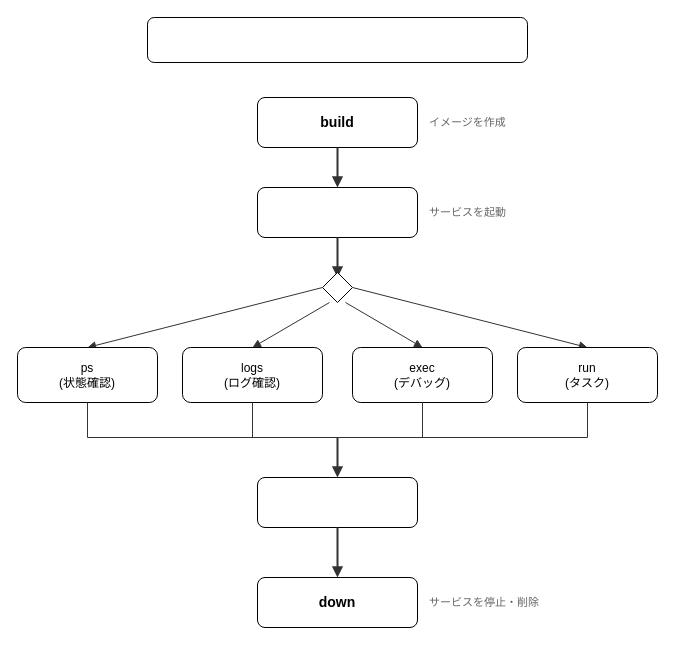
Some shapes in this 675 by 645 pixel diagram are drawn without their labels. The centre of each missing label's shape, as x and y in pixels:
"restart (再起動)" belongs at [337,502].
"up -d" belongs at [337,212].
"開発ワークフロー" belongs at [337,39].
